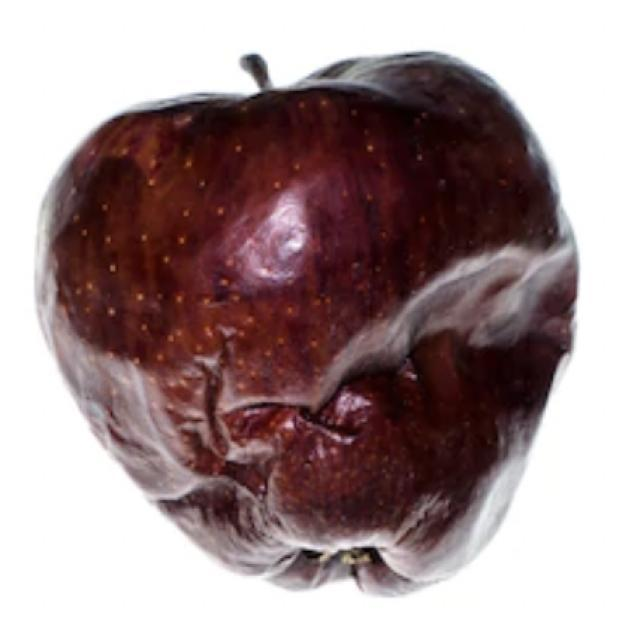Rotten: (80, 58, 555, 557)
